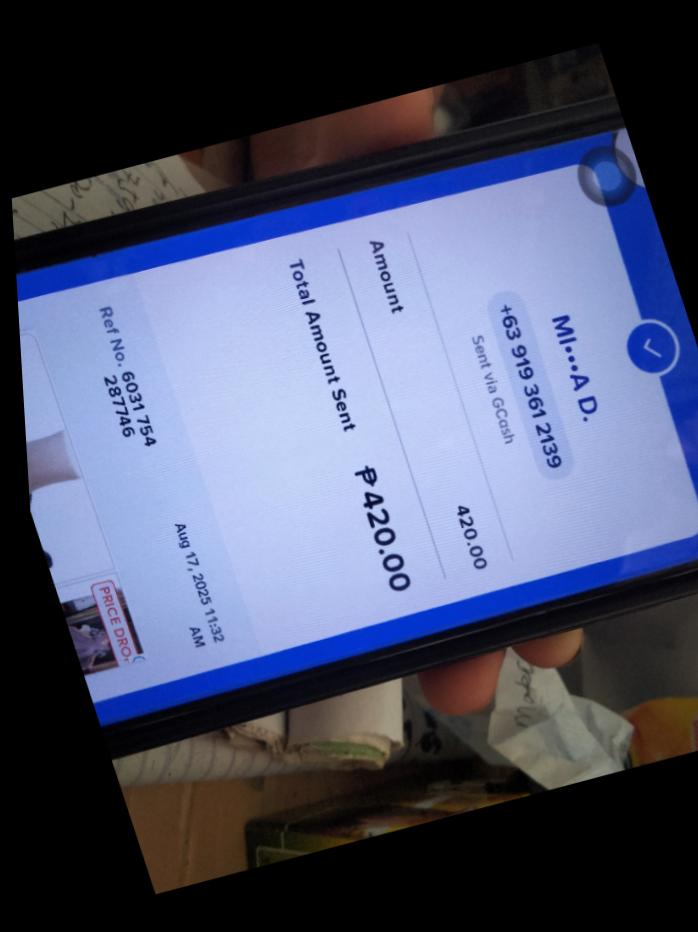Receipt: (17, 132, 698, 724)
